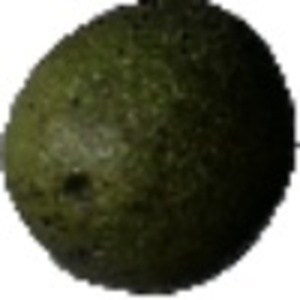abacate: (1, 1, 296, 293)
